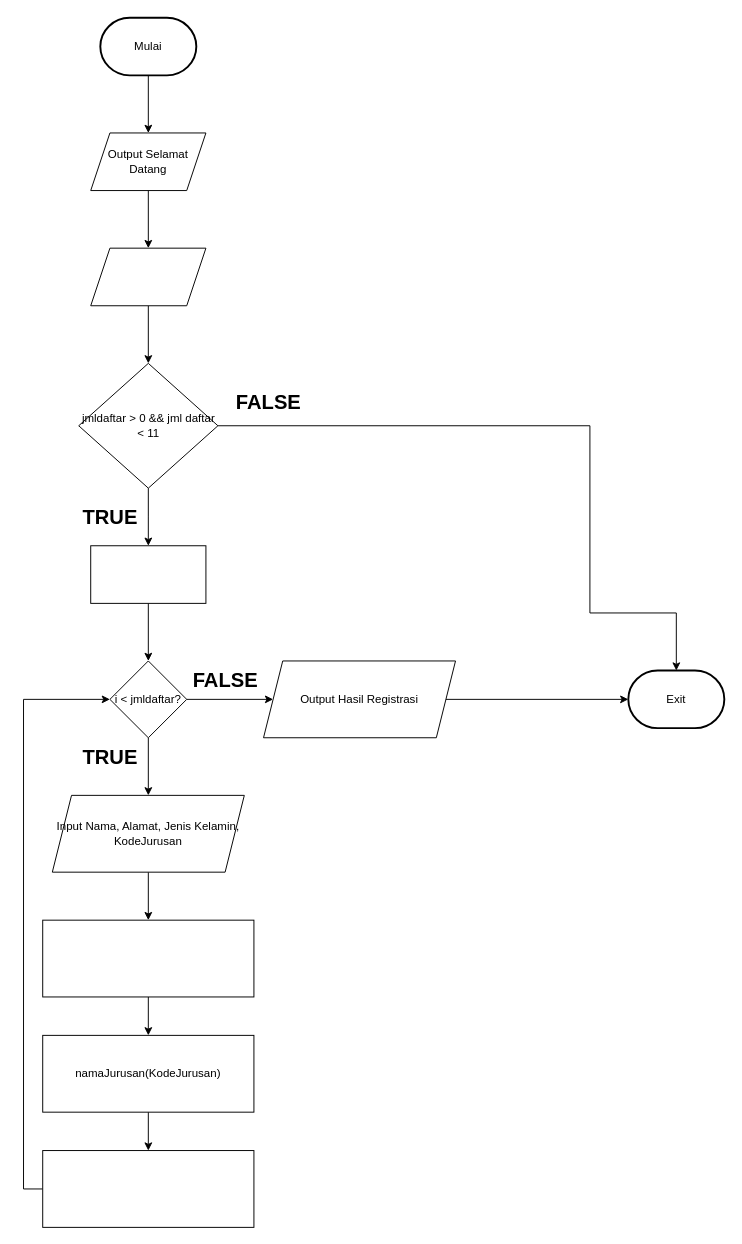
Image size: 742x1244. Some labels were removed from this diagram. Here are the shapes that lost their labels. From the top down, the centre of each, then its label:
point 148,276: Input Jumlah Pendaftar
point 148,574: int i = 0
point 148,958: biaya = biayaPendaftaran(KodeJurusan)
point 148,1188: i++
